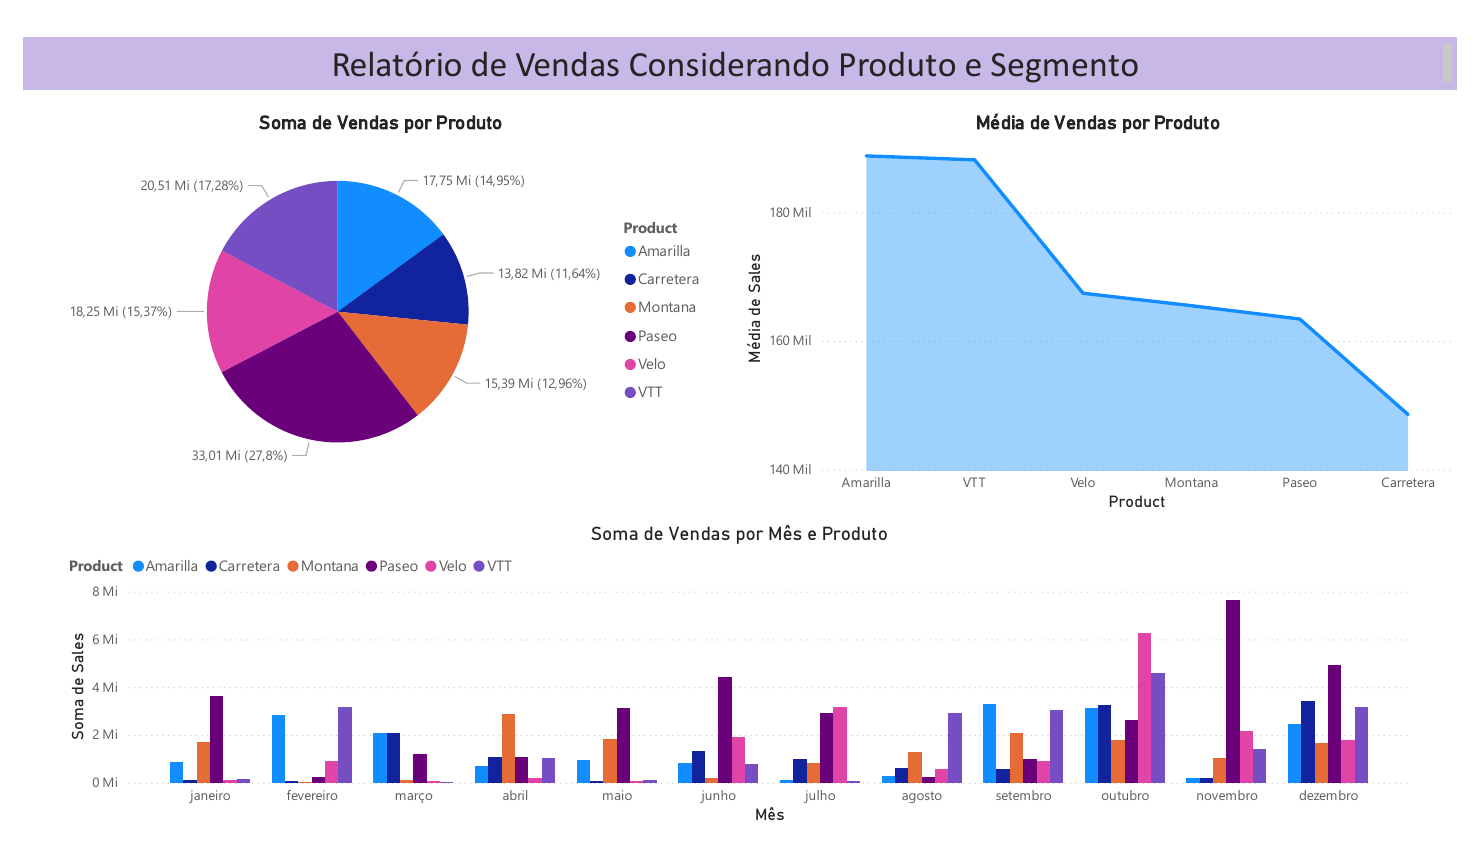

The page's visual inventory and layout, read from the dashboard file:
{"tool":"powerbi","page":{"name":"Página 1","canvas":[1280,720],"ordinal":0},"visuals":[{"type":"pieChart","title":"Soma de Vendas por Produto","fields":{"Y":["Sum(financials.Sales)"],"Series":["financials.Product"]},"box":[20.6,78.5,598.7,338.6],"z":0},{"type":"areaChart","title":"Média de Vendas por Produto","fields":{"Category":["financials.Product"],"Y":["Avg(financials.Sales)"]},"box":[640,78.5,640,362],"z":1000},{"type":"clusteredColumnChart","title":"Soma de Vendas por Mês e Produto","fields":{"Y":["Sum(financials.Sales)"],"Category":["financials.Date.Variation.Hierarquia de datas.Mês"],"Series":["financials.Product"]},"box":[35.8,444.6,1207.1,275.3],"z":2000},{"type":"textbox","box":[0,11.8,1280,47],"z":3000}]}

Visuals, with their boxes in screenshot pixels (x1, y1, x2, y2), scaled from the page's 1280x720 canvas onto the 1483x854 screenshot:
"Soma de Vendas por Produto" pieChart: 24:93:718:495
"Média de Vendas por Produto" areaChart: 742:93:1482:522
"Soma de Vendas por Mês e Produto" clusteredColumnChart: 41:527:1440:853
textbox: 0:14:1482:70
